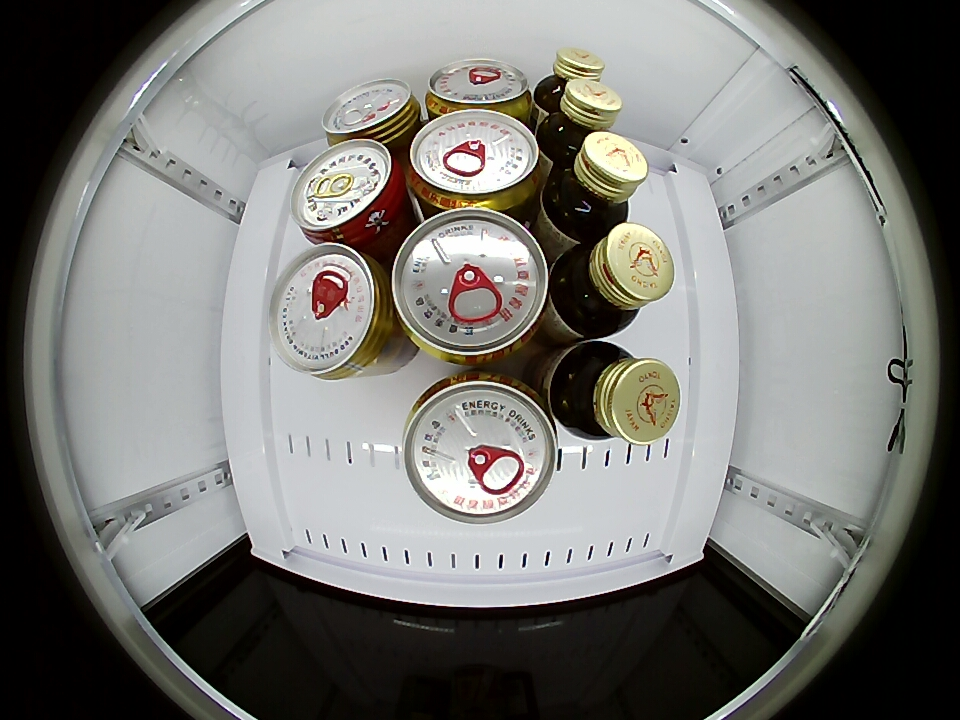dongpeng: (391, 209, 550, 367), (402, 371, 558, 523), (406, 109, 543, 214), (425, 58, 531, 119)
hongniu: (269, 242, 394, 379)
hongniu2: (322, 78, 420, 148)
libaojian: (549, 223, 675, 339), (548, 341, 681, 445), (542, 133, 648, 241), (540, 80, 622, 162), (534, 48, 604, 112)
wangzainiunai: (292, 139, 408, 249)
